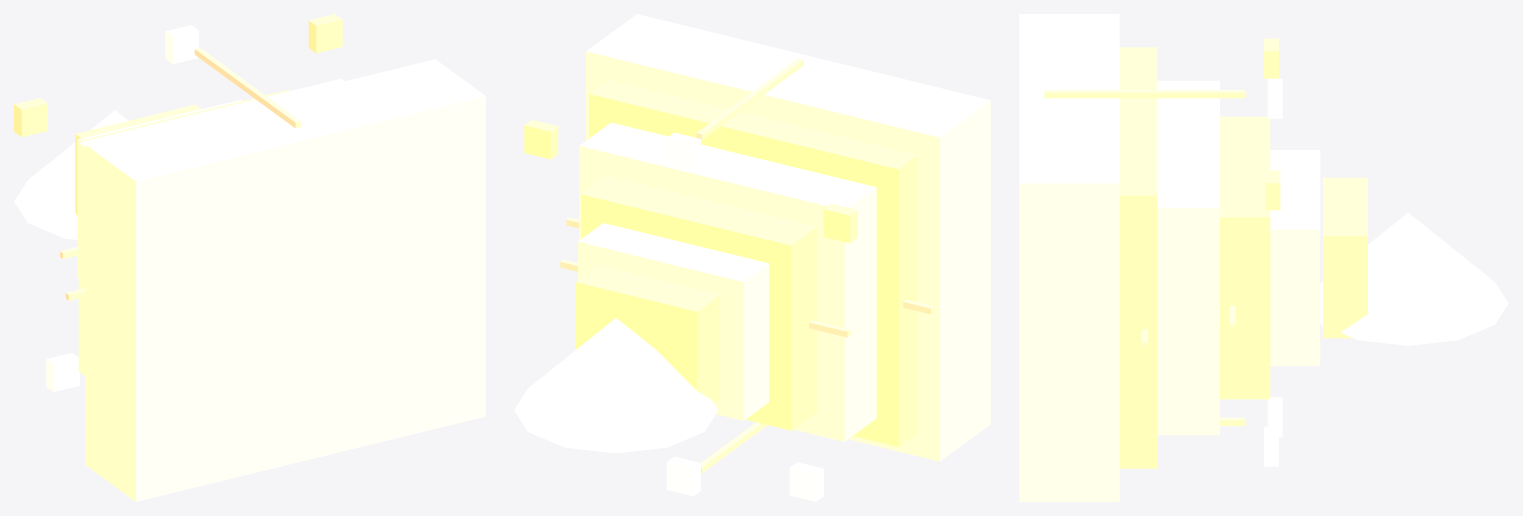
Rendered from haystack.glb.
3 renders of one model, left to right at view 1: azimuth 30°, elevation 25°; view 2: azimuth 150°, elevation 25°; view 3: azimuth 270°, elevation 25°, orthographic.
Parts seen in each view (by area): view 1: base_wide, top, mid_wide, rope_v1, tuft_0.65_0.6, tuft_-0.7_0.55, tuft_-0.55_-0.6, tuft_0.0_0.7, upper_mid, upper_wide; view 2: base_wide, mid_wide, base_mid, mid_mid, top, upper_wide, upper_mid, rope_v1, tuft_0.0_0.7, tuft_0.0_-0.7, tuft_-0.7_0.55, tuft_0.65_0.6 (+3 smaller); view 3: base_wide, mid_wide, base_mid, mid_mid, top, upper_wide, upper_mid, rope_v1, tuft_0.65_0.6, tuft_0.0_0.7, tuft_-0.7_0.55, tuft_0.6_-0.55.
Part boxes in pixels (box(x1,y1,x2,y2)): base_wide: box(85, 59, 485, 501); top: box(14, 110, 128, 239); mid_wide: box(78, 79, 344, 375); rope_v1: box(194, 47, 300, 128); tuft_0.65_0.6: box(308, 14, 342, 53); tuft_-0.7_0.55: box(14, 98, 47, 137); tuft_-0.55_-0.6: box(46, 352, 79, 391); tuft_0.0_0.7: box(165, 25, 198, 63); upper_mid: box(75, 104, 201, 215); upper_wide: box(77, 99, 242, 277); base_wide: box(586, 14, 990, 461); mid_wide: box(579, 122, 876, 441); base_mid: box(589, 80, 917, 446); mid_mid: box(581, 176, 816, 430); top: box(514, 318, 718, 453); upper_wide: box(578, 223, 769, 420); upper_mid: box(575, 265, 720, 403); rope_v1: box(696, 58, 803, 139); tuft_0.0_0.7: box(666, 132, 700, 172); tuft_0.0_-0.7: box(666, 456, 700, 496); tuft_-0.7_0.55: box(823, 203, 857, 243); tuft_0.65_0.6: box(524, 120, 558, 159); base_wide: box(1019, 14, 1119, 501); mid_wide: box(1157, 80, 1219, 435); base_mid: box(1119, 47, 1157, 468); mid_mid: box(1220, 116, 1270, 399); top: box(1320, 212, 1508, 345); upper_wide: box(1270, 150, 1320, 365); upper_mid: box(1323, 177, 1367, 338); rope_v1: box(1044, 90, 1245, 98); tuft_0.65_0.6: box(1265, 170, 1280, 210); tuft_0.0_0.7: box(1267, 78, 1282, 118); tuft_-0.7_0.55: box(1264, 38, 1278, 78); tuft_0.6_-0.55: box(1264, 426, 1278, 466).
Bounding box in the file's own units: 1.65 × 1.52 × 1.95.
